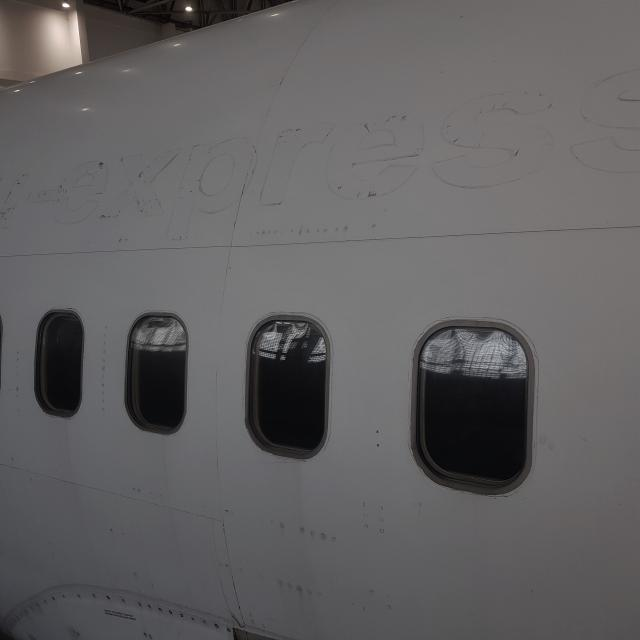crack: (224, 613, 258, 633)
